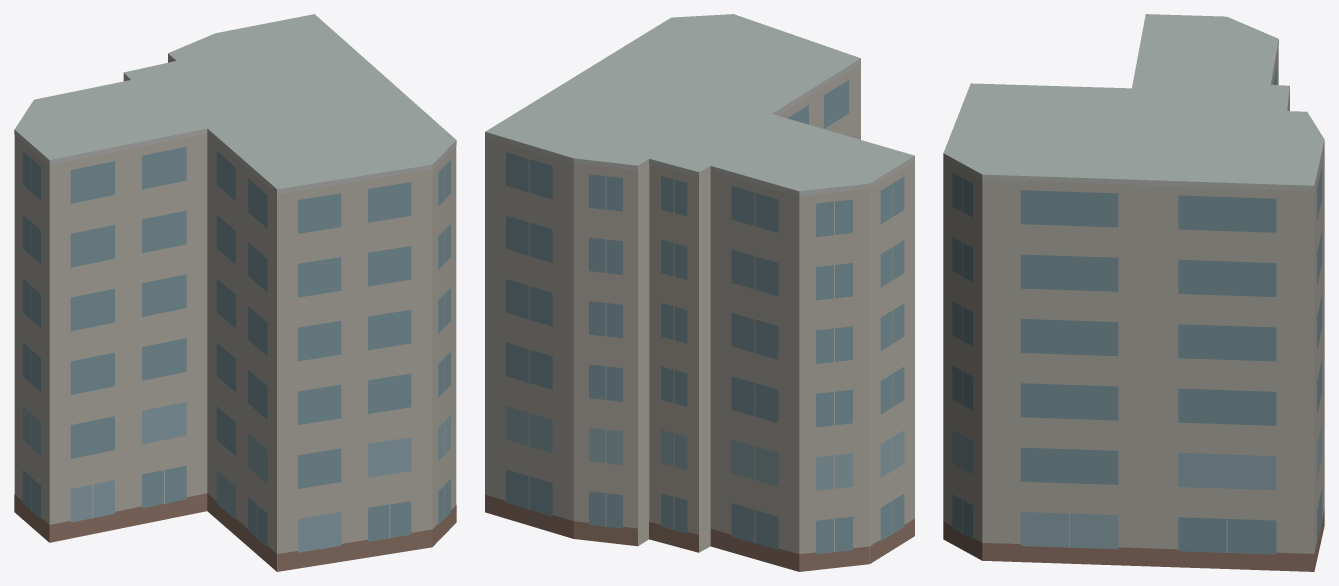
File: survey-upis-32665482.glb
3 views of the same model, side by side, from view 1: azimuth 30°, elevation 25°; view 2: azimuth 150°, elevation 25°; view 3: azimuth 270°, elevation 25° (orthographic).
Visible parts, largest first — view 1: survey-upis-32665482.tmp; view 2: survey-upis-32665482.tmp; view 3: survey-upis-32665482.tmp.
Boxes of the visible parts, <box> form: survey-upis-32665482.tmp: <box>14,14,456,571</box>; survey-upis-32665482.tmp: <box>485,14,914,571</box>; survey-upis-32665482.tmp: <box>943,14,1324,571</box>.
Bounding box in the file's own units: 17.46 × 18.3 × 16.39.
